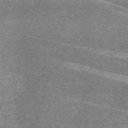finishing roll printing: (24, 34, 128, 60), (62, 62, 128, 84), (68, 98, 128, 116), (97, 0, 128, 12)
